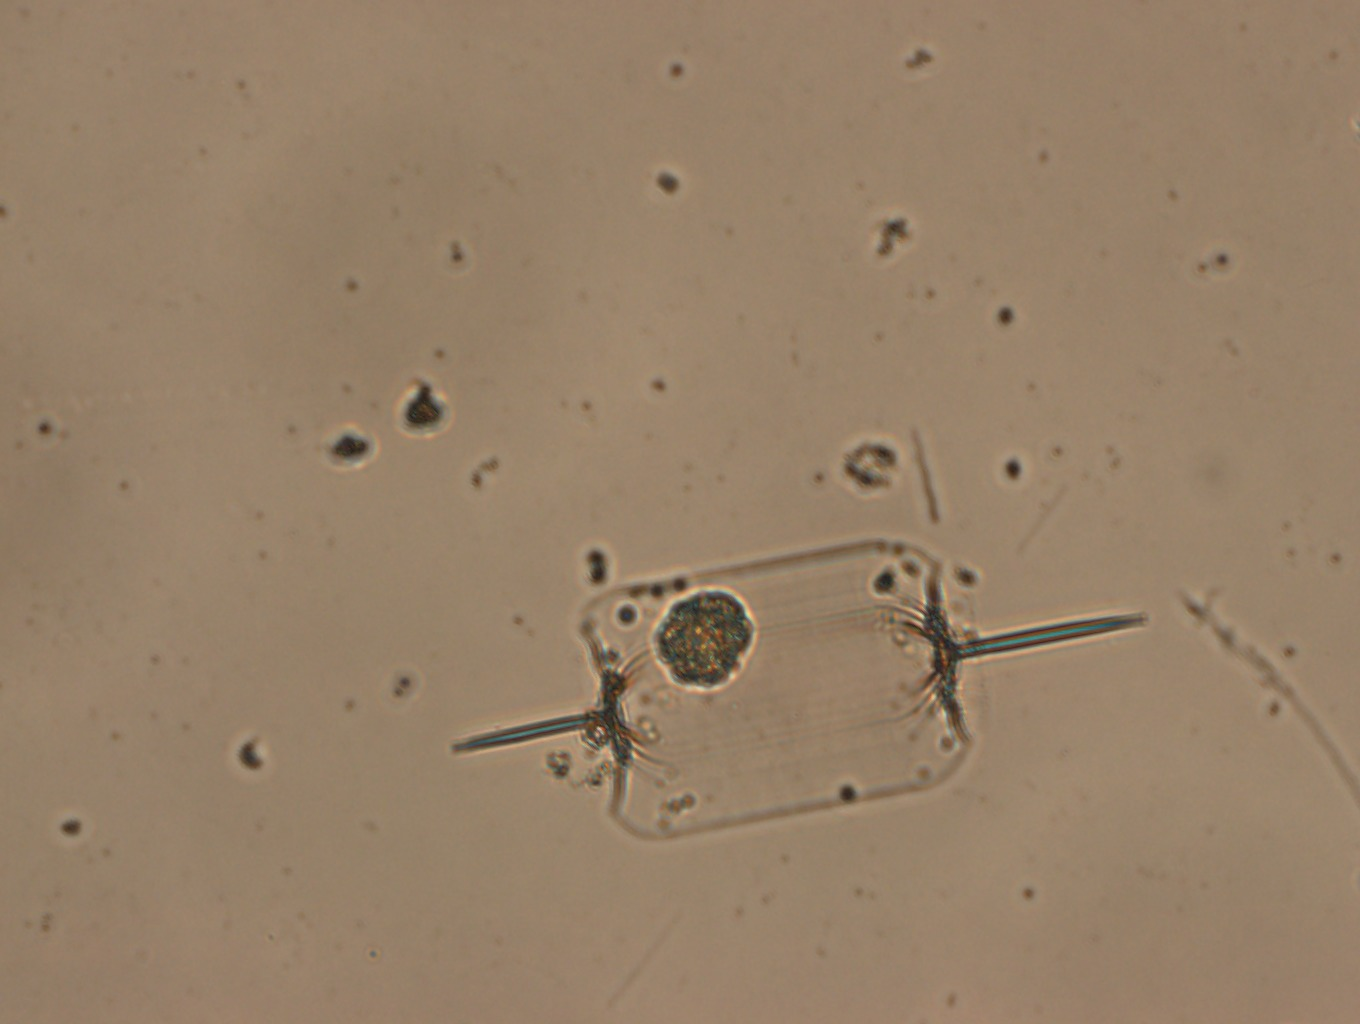ditylum: (450, 538, 1148, 842)
